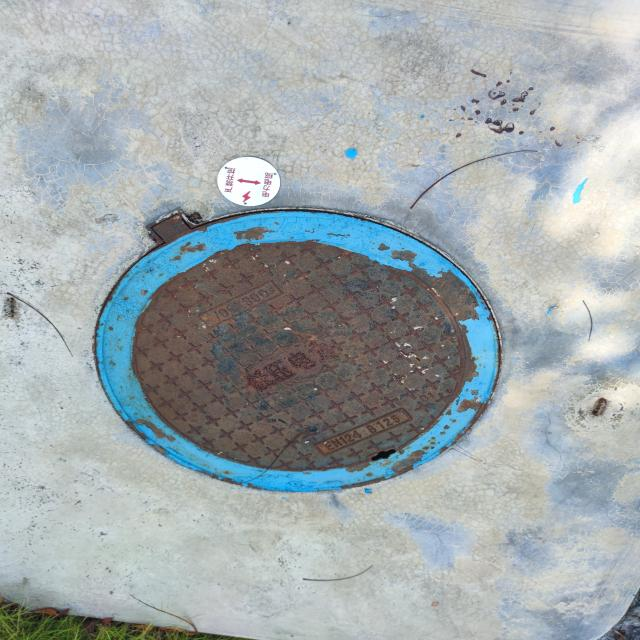Good: (86, 202, 512, 499)
